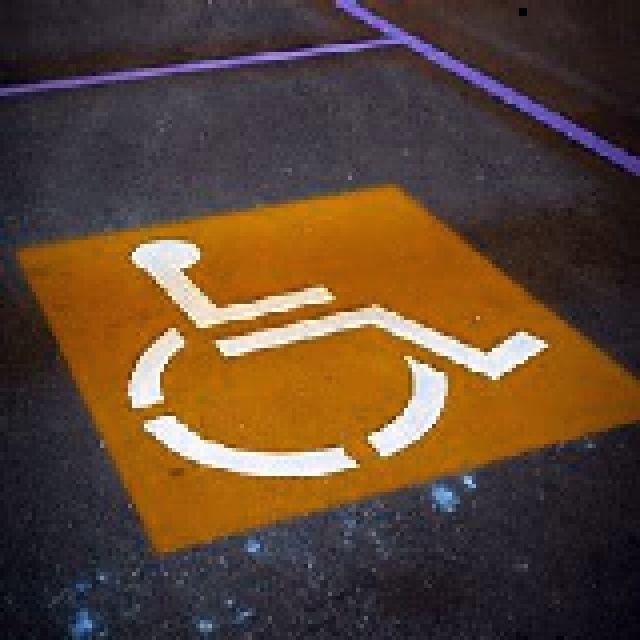ISA: (119, 238, 549, 478)
